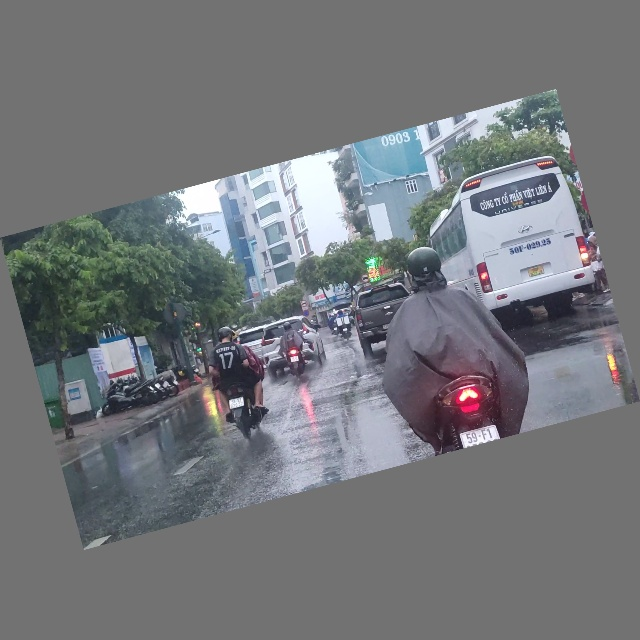P.106a*Xe tai: (360, 273, 371, 285), (300, 300, 308, 308)
P.131a: (303, 309, 310, 318)
